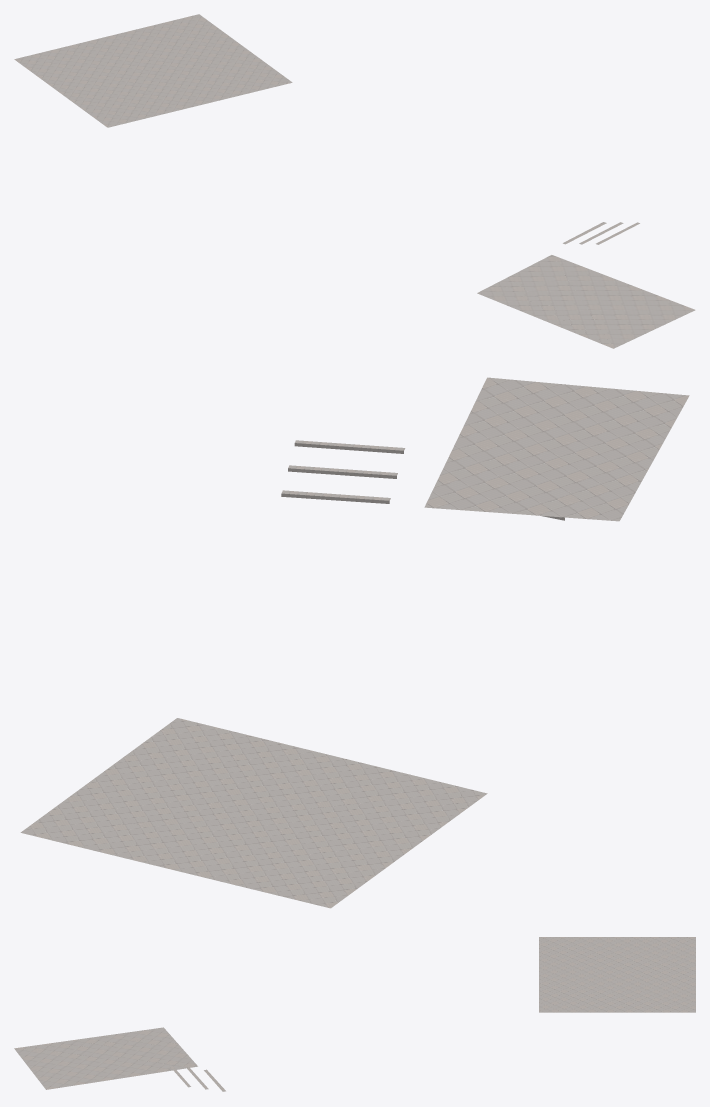
The model's file is kd_stage_135fe0_5_57_bounded.glb.
3 views of the same model, one above another, from view 1: azimuth 30°, elevation 25°; view 2: azimuth 150°, elevation 25°; view 3: azimuth 270°, elevation 25° (orthographic). The views are drawn at different scales.
Parts seen in each view (by area): view 1: kd_stage_135fe0_5_57_bounded; view 2: kd_stage_135fe0_5_57_bounded; view 3: kd_stage_135fe0_5_57_bounded.
Boxes of the visible parts, left/top/right/bottom form: kd_stage_135fe0_5_57_bounded: left=14, top=14, right=695, bottom=348; kd_stage_135fe0_5_57_bounded: left=20, top=377, right=689, bottom=908; kd_stage_135fe0_5_57_bounded: left=14, top=937, right=695, bottom=1091.
Size of the model in its own units: 8.71 by 1 by 18.97.
Materials: 1 (1 with a texture image).
